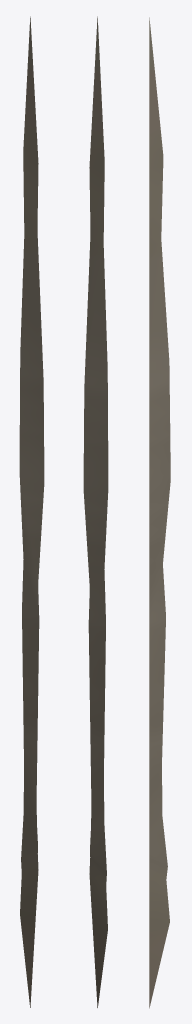
3 views of the same model, side by side, from view 1: azimuth 30°, elevation 25°; view 2: azimuth 210°, elevation 25°; view 3: azimuth 270°, elevation 25° (orthographic).
Bounding box in the file's own units: 0.019 × 1.29 × 0.0254.
Materials: 1 (1 with a texture image).
